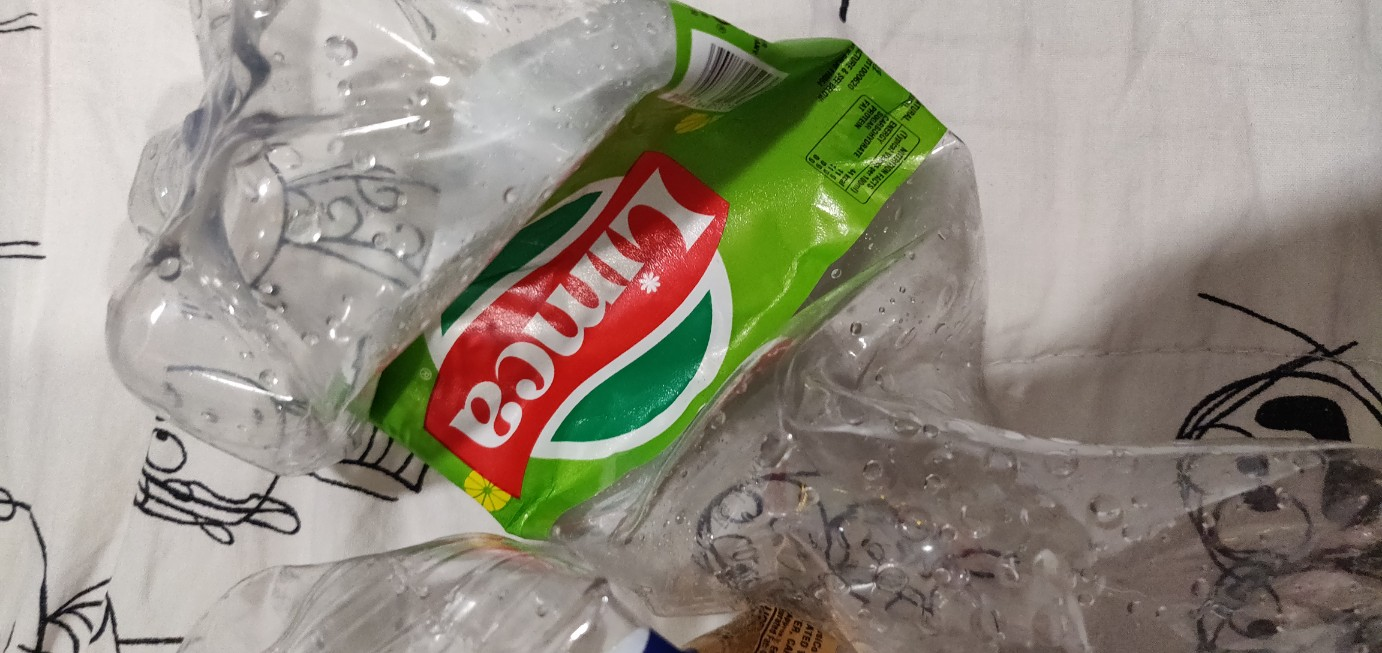Electronics: (95, 1, 1160, 653)
